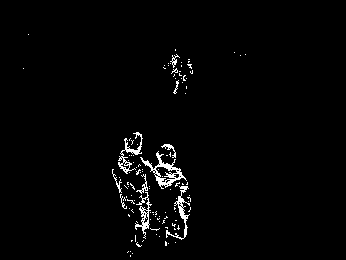person: (144, 140, 192, 253), (110, 129, 152, 257)
